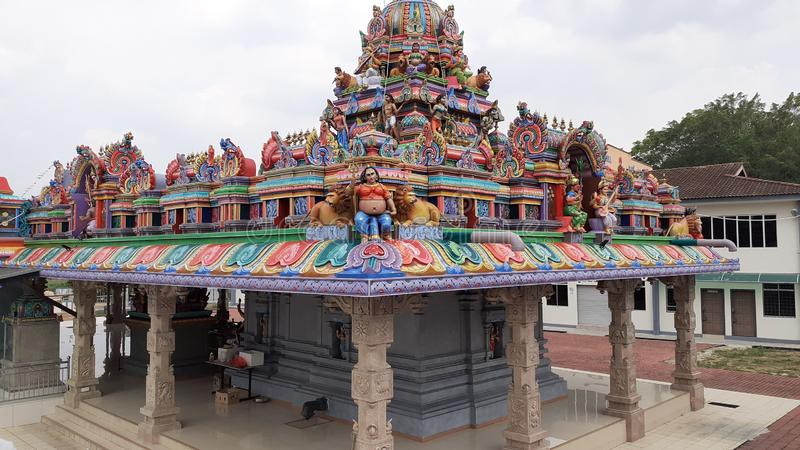Hindu Temple: (4, 1, 713, 410)
